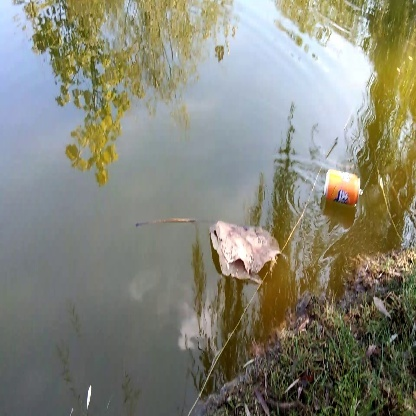bottle: (322, 166, 371, 209)
leaf: (204, 216, 291, 285)
